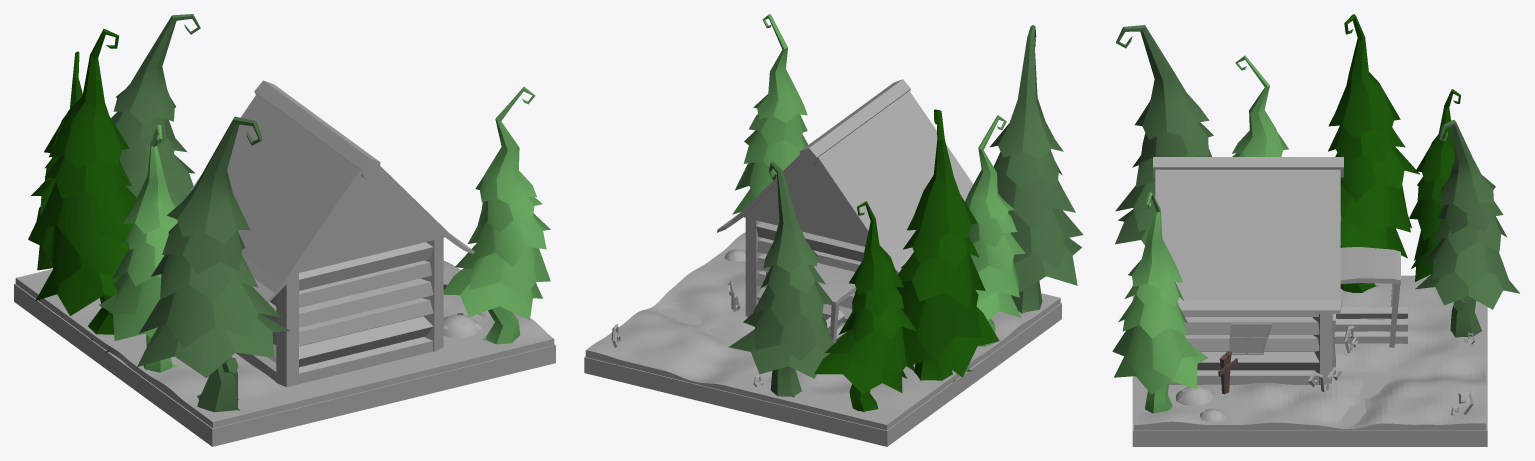
File: Foret_cabane_ext.fbx
3 views of the same model, side by side, from view 1: azimuth 30°, elevation 25°; view 2: azimuth 150°, elevation 25°; view 3: azimuth 270°, elevation 25° (orthographic). The views are drawn at different scales.
Visible parts, largest first — view 1: cabane, sapin33, sapin35, sol31, sapin38, sol28, sapin34, sapin36, sapin37, Buisson46; view 2: cabane, sol31, sapin35, sapin33, sapin36, sapin37, sol28, sapin34, sapin38; view 3: cabane, sol31, sapin35, sapin36, sapin38, sapin33, sol28, sapin37, sapin34, Buisson46, Tombe.
Part boxes in pixels (bbox=[...]): cabane: bbox=[186, 80, 474, 386]; sapin33: bbox=[137, 116, 289, 412]; sapin35: bbox=[35, 29, 136, 353]; sol31: bbox=[15, 261, 554, 428]; sapin38: bbox=[443, 86, 550, 344]; sol28: bbox=[14, 283, 555, 446]; sapin34: bbox=[99, 124, 178, 372]; sapin36: bbox=[111, 14, 200, 206]; sapin37: bbox=[28, 51, 82, 270]; Buisson46: bbox=[443, 313, 481, 337]; cabane: bbox=[717, 79, 973, 343]; sol31: bbox=[585, 232, 1060, 430]; sapin35: bbox=[896, 109, 999, 382]; sapin33: bbox=[990, 25, 1083, 313]; sapin36: bbox=[729, 161, 834, 397]; sapin37: bbox=[814, 201, 917, 411]; sol28: bbox=[584, 303, 1061, 446]; sapin34: bbox=[965, 115, 1025, 346]; sapin38: bbox=[732, 14, 808, 214]; cabane: bbox=[1153, 157, 1407, 384]; sol31: bbox=[1134, 275, 1486, 430]; sapin35: bbox=[1328, 14, 1420, 292]; sapin36: bbox=[1415, 120, 1519, 337]; sapin38: bbox=[1112, 192, 1207, 413]; sapin33: bbox=[1115, 25, 1213, 244]; sol28: bbox=[1132, 282, 1487, 446]; sapin37: bbox=[1409, 89, 1460, 281]; sapin34: bbox=[1232, 55, 1288, 156]; Buisson46: bbox=[1176, 385, 1213, 406]; Tombe: bbox=[1218, 351, 1237, 394].
Size of the model in its own units: 1134 by 886 by 1132.
